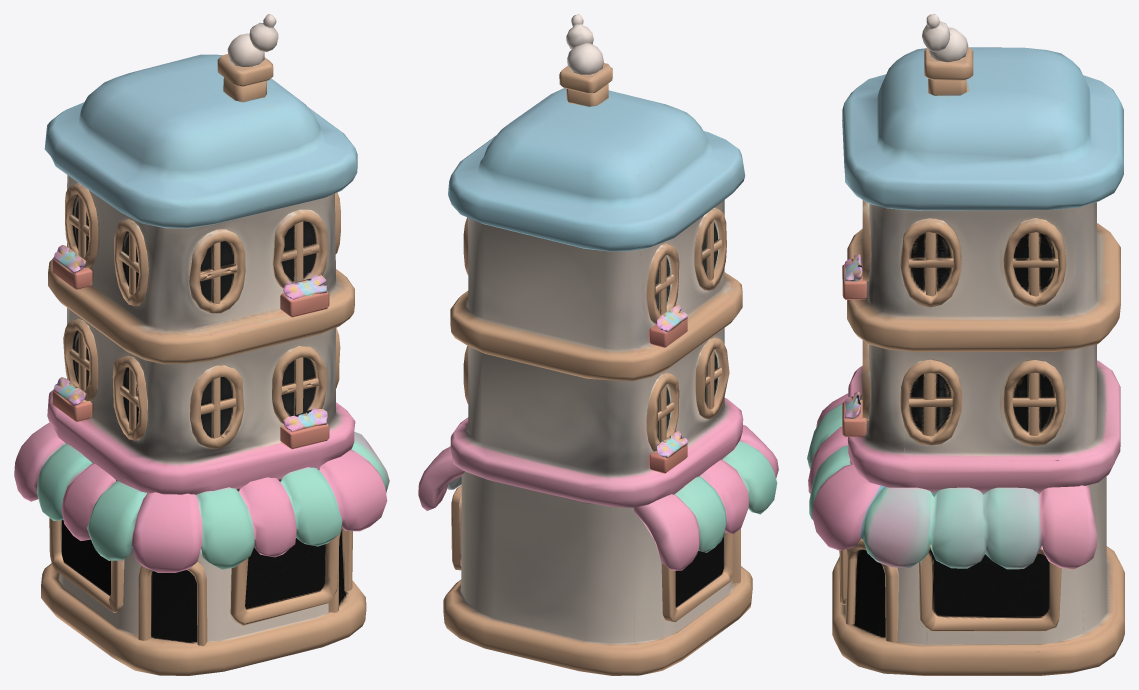
Rendered from building_shop.glb.
3 views of the same model, side by side, from view 1: azimuth 30°, elevation 25°; view 2: azimuth 150°, elevation 25°; view 3: azimuth 270°, elevation 25° (orthographic). The views are drawn at different scales.
Size of the model in its own units: 0.4727 by 0.9517 by 0.438.
Materials: 1 (1 with a texture image).
